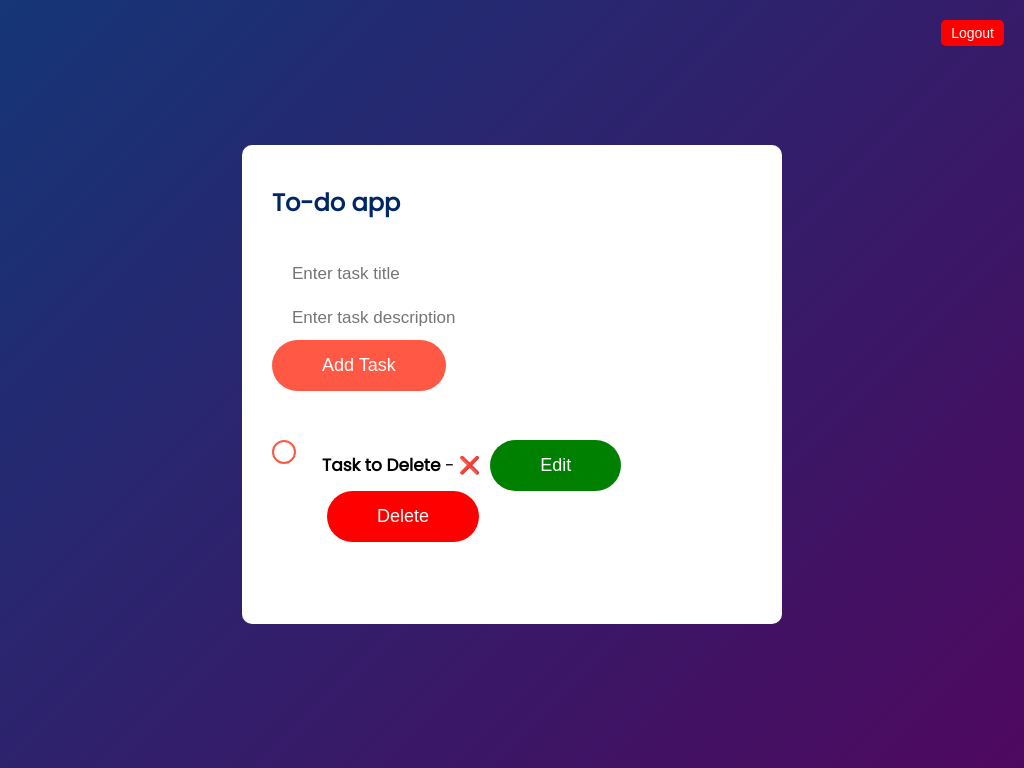
Scenario: Todos Component › allows deleting a task
The image size is (1024, 768).
Click the button "Delete": (403, 516) [327, 490, 479, 542]
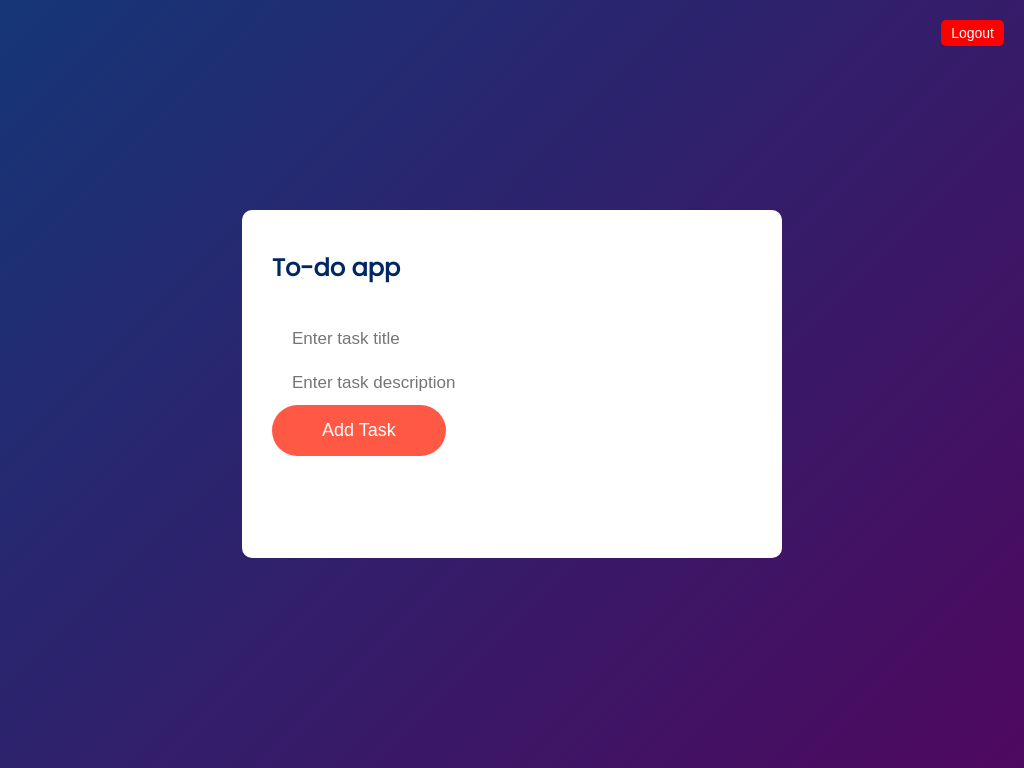
Expected: the text "Task to Delete" is gone
